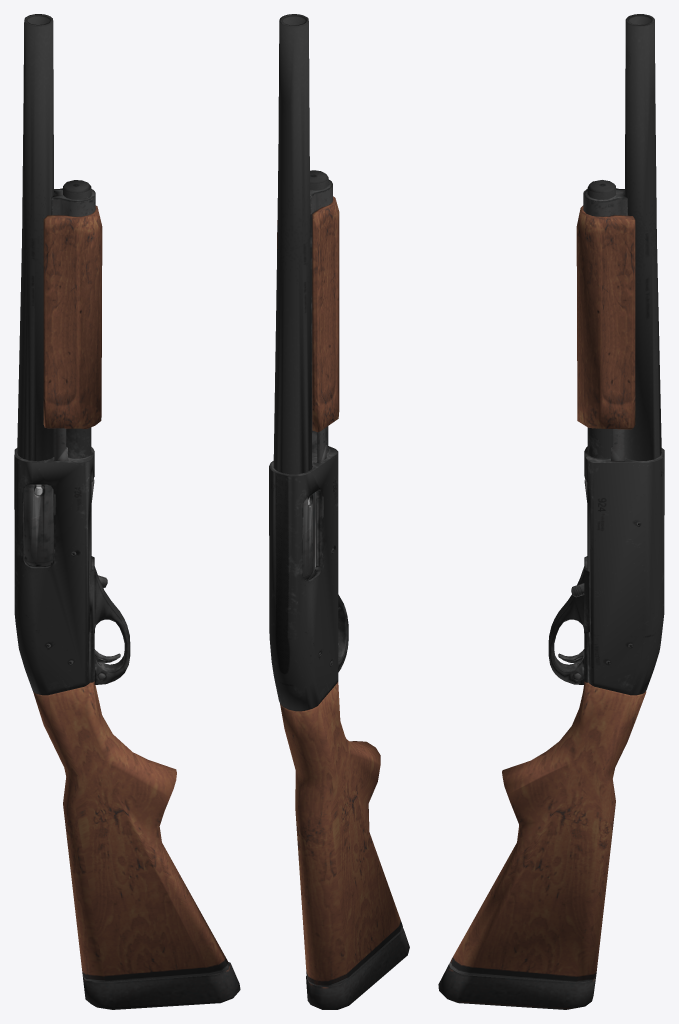
Rendered from Shotgun.fbx.
The picture shows the model from 3 angles, left to right: view 1: azimuth 90°, elevation 25°; view 2: azimuth 150°, elevation 25°; view 3: azimuth 270°, elevation 25°; orthographic projection. The views are drawn at different scales.
Parts seen in each view (by area): view 1: Shotgun; view 2: Shotgun; view 3: Shotgun.
Boxes of the visible parts, x1,y1,x2,y2 form: Shotgun: (14, 14, 240, 1009); Shotgun: (269, 14, 409, 1009); Shotgun: (438, 14, 664, 1009).
Size of the model in its own units: 0.0273 by 0.5792 by 0.1209.
